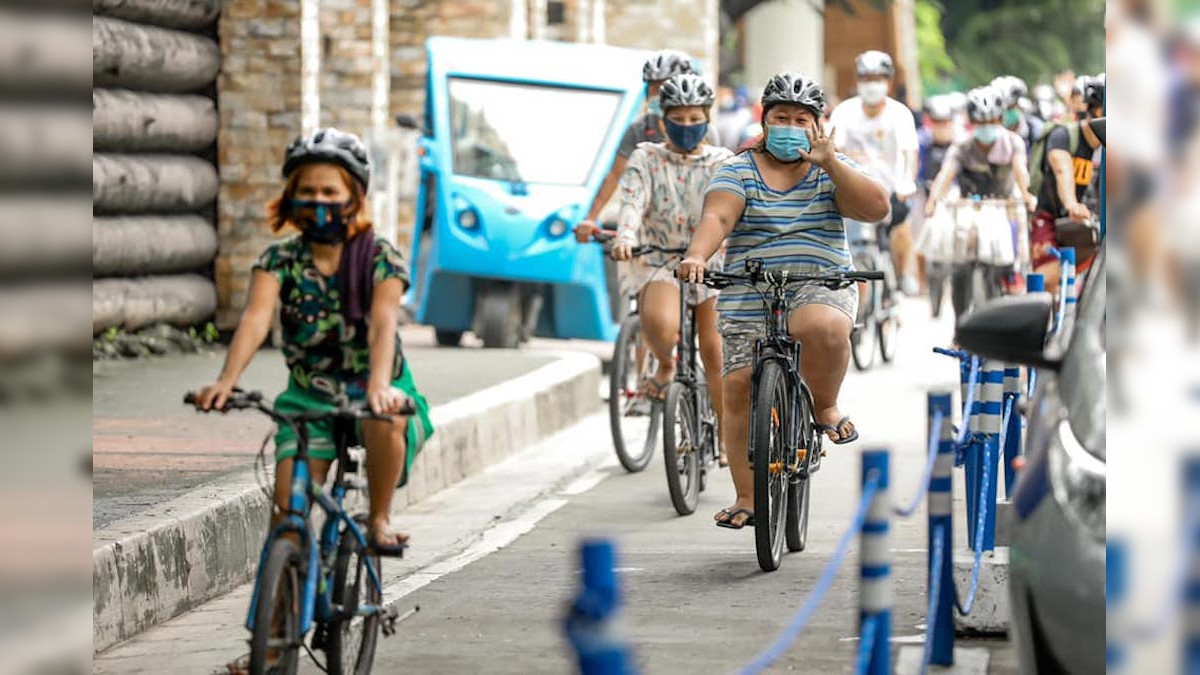commuter: (175, 127, 431, 675), (668, 72, 892, 572), (609, 73, 734, 506)
